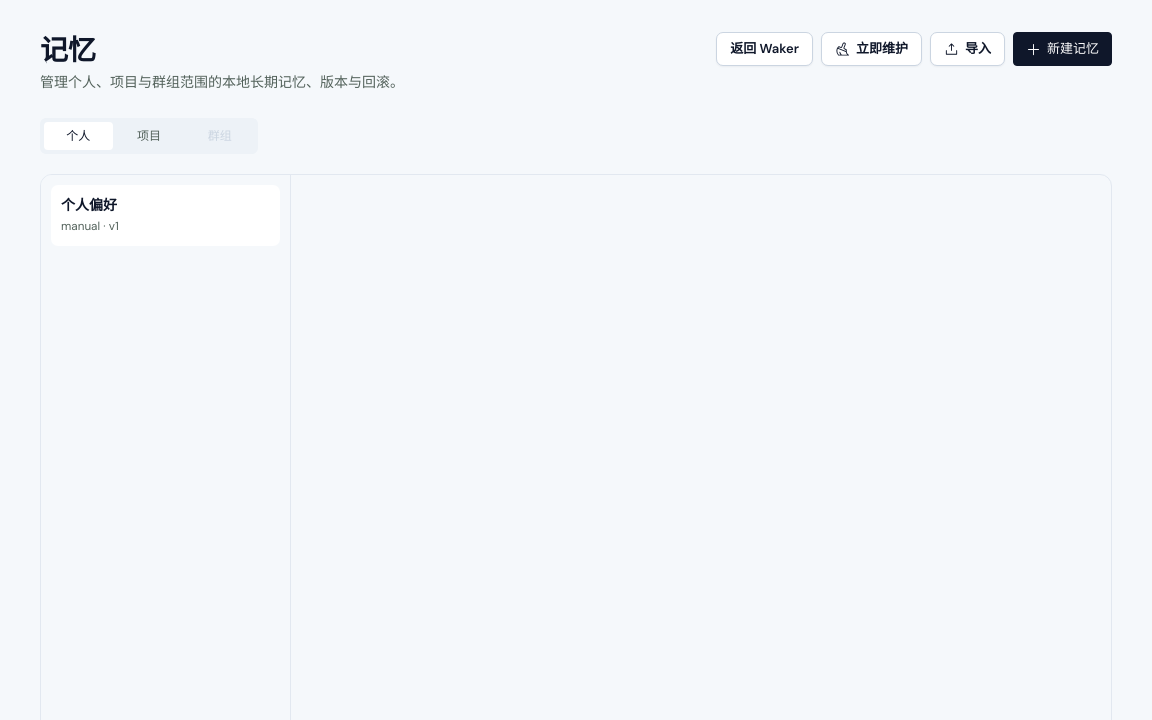
Test: MemoryView 范围筛选 › 默认个人范围，切换项目后按新 scope 拉取且列表隔离
expect the button "个人偏好 manual · v1" is shown: met, box [51, 185, 280, 246]
Click the tab "项目". click: {"x": 149, "y": 136}
box: [115, 122, 183, 150]
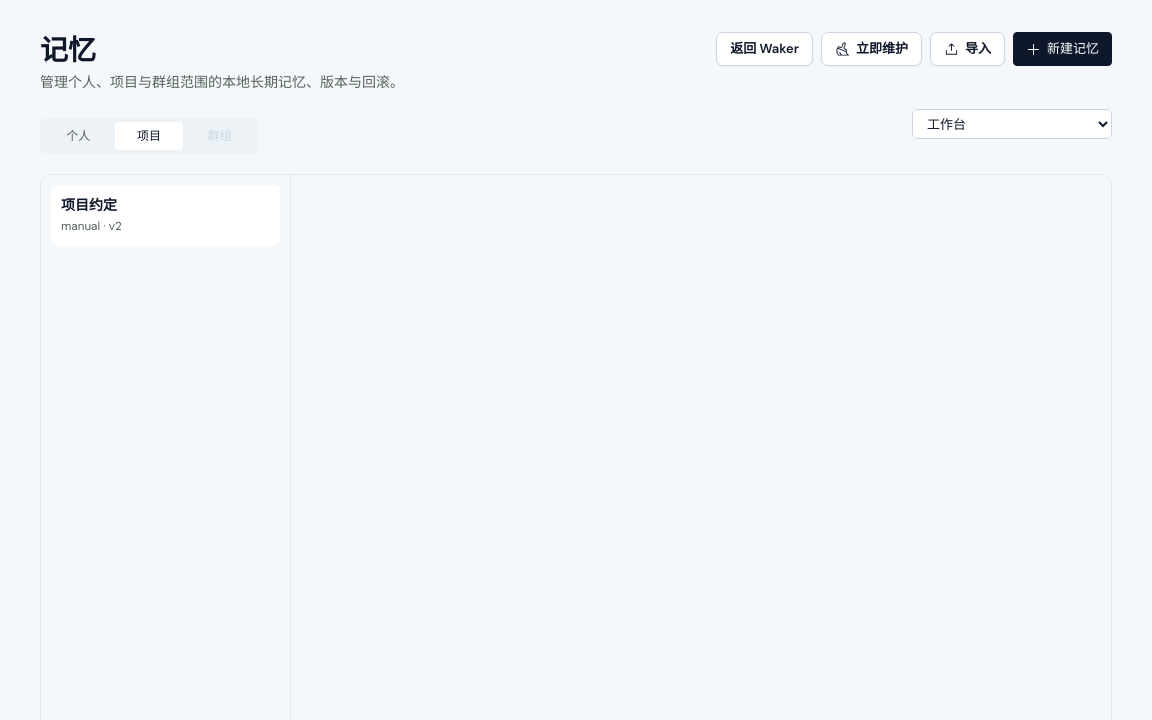
expect the button "项目约定 manual · v2" is shown: met, box [51, 185, 280, 246]
expect the button "个人偏好" is gone: met
Click the tab "个人". click: {"x": 78, "y": 136}
box: [44, 122, 113, 150]
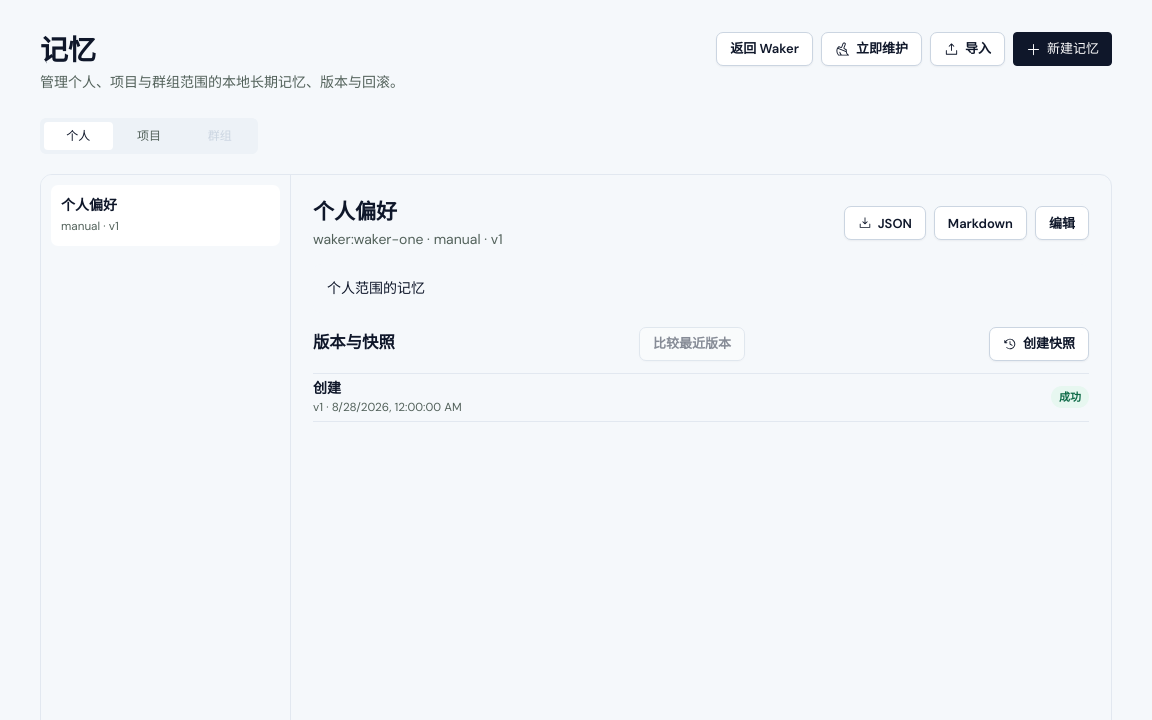
expect the button "个人偏好 manual · v1" is shown: met, box [51, 185, 280, 246]
expect the button "项目约定" is gone: met
